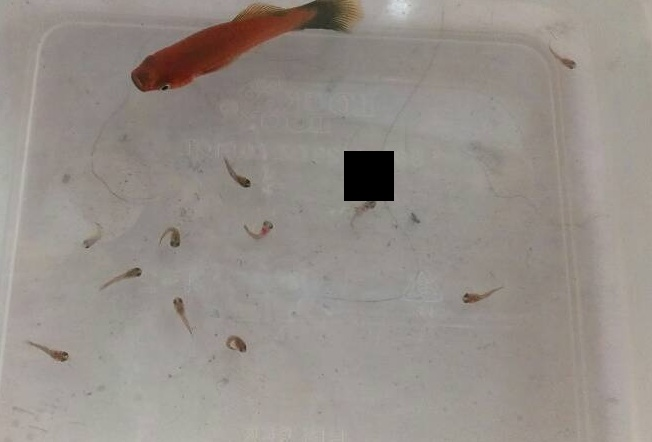fry: (121, 4, 366, 97), (443, 273, 511, 318), (539, 32, 588, 81), (336, 186, 387, 232), (97, 257, 150, 299), (163, 288, 205, 340), (220, 151, 257, 204), (24, 331, 76, 368), (234, 209, 278, 249), (214, 322, 254, 364), (71, 221, 109, 259), (155, 216, 190, 256)
